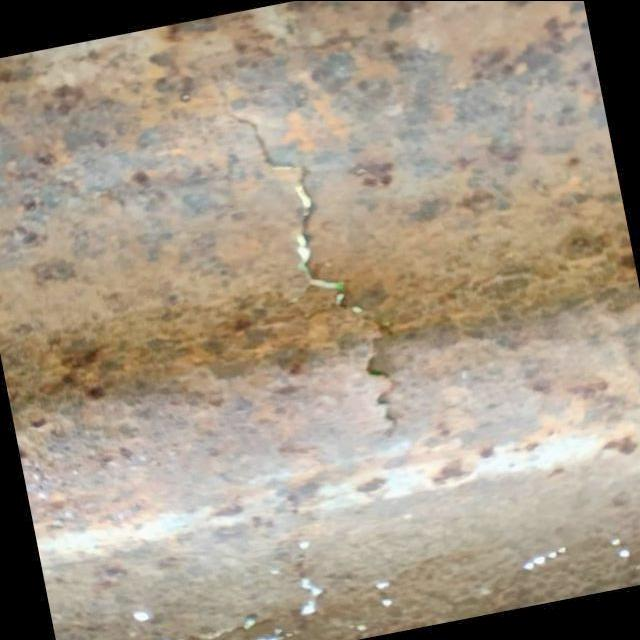defect: (189, 58, 406, 447)
